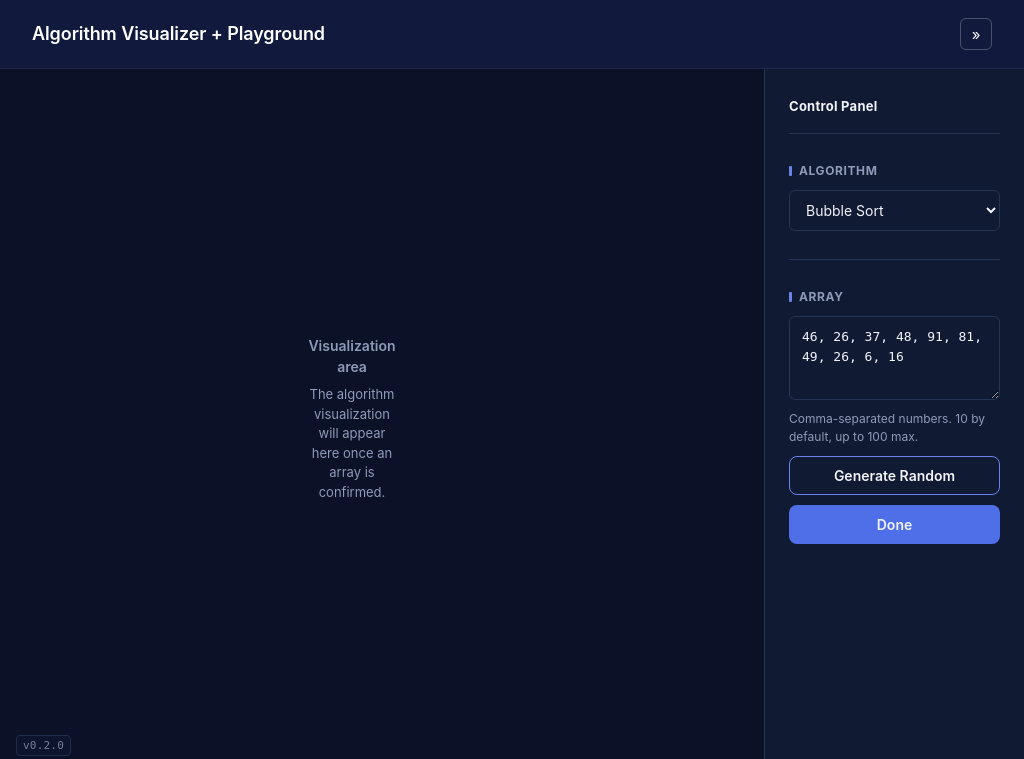
Scenario: App — Statistics Panel placement › Statistics is rendered exactly once
This screenshot has width=1024, height=759.
Replace the text in the text box labelled "Array" with "8, 3, 5, 1": [894, 358] box 789,316 -> 1000,400
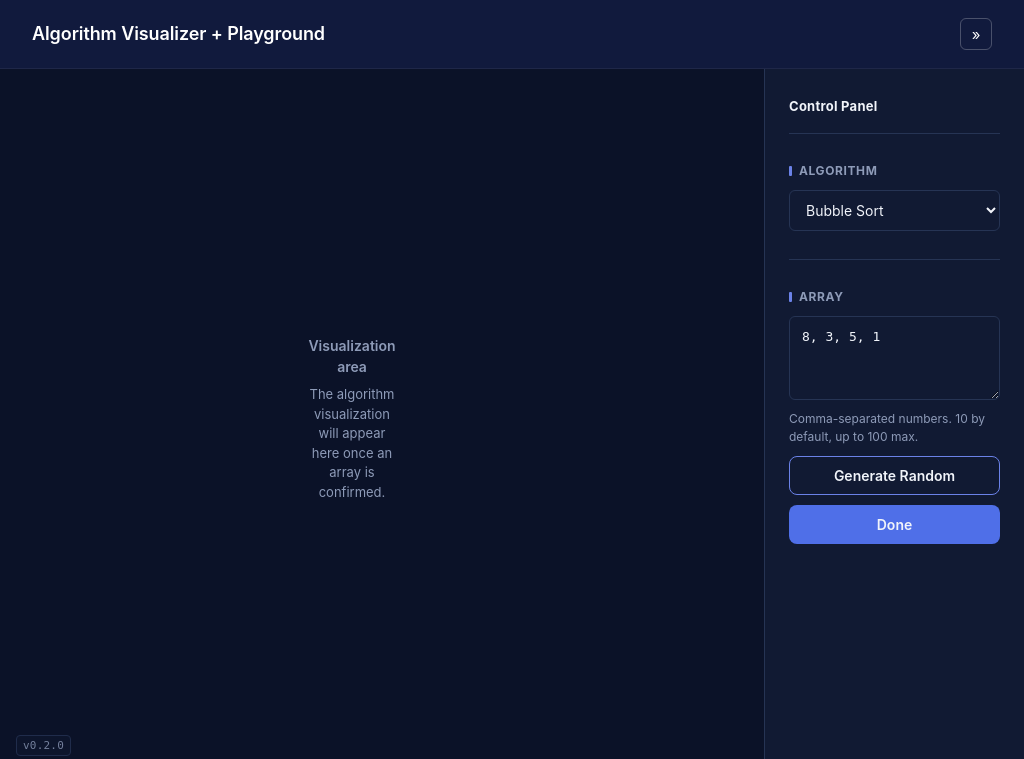
Click the button "Done": [894, 524] box 789,505 -> 1000,544
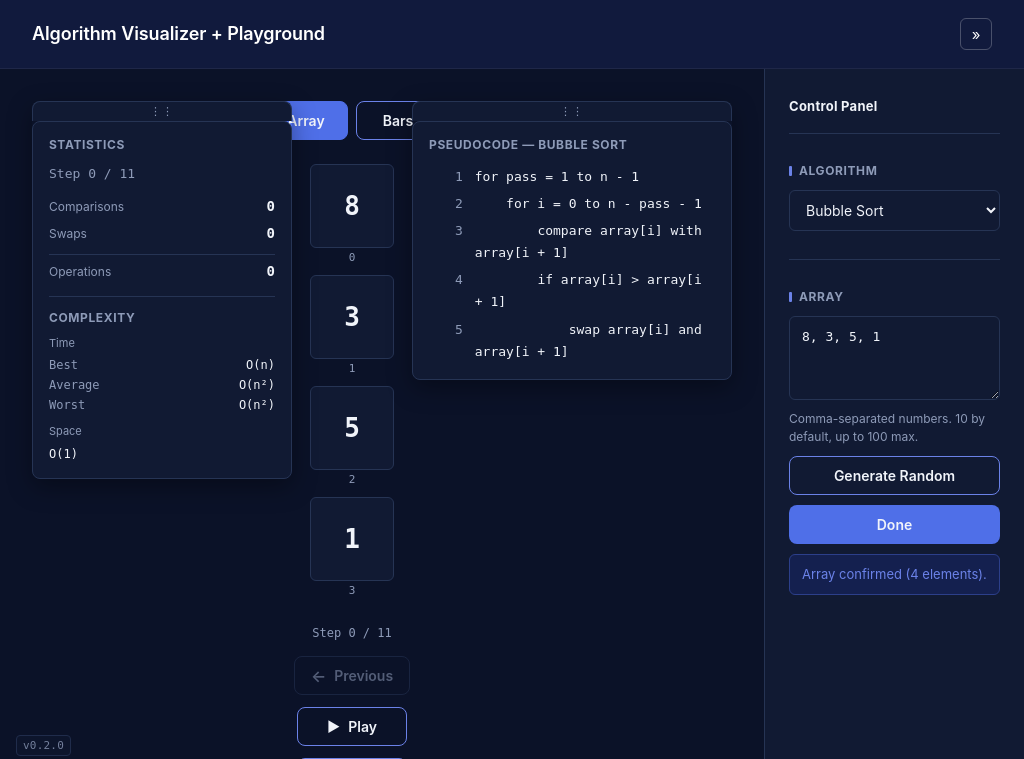
Expected: the number of elements with class "statistics-panel" is 1, 32,121 -> 292,478
